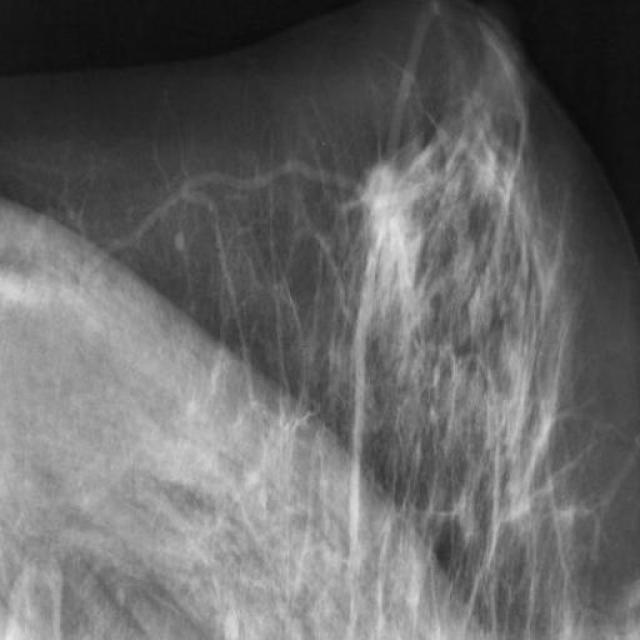cancer: (352, 131, 421, 273)
